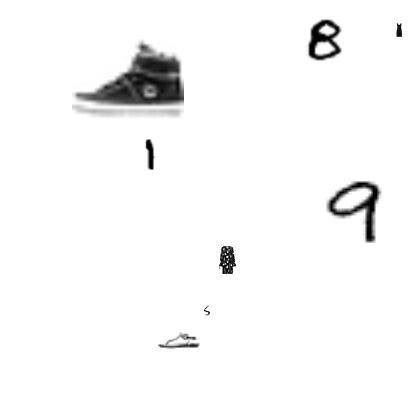1: (128, 132, 170, 174)
5: (200, 304, 214, 318)
8: (295, 10, 351, 66)
9: (315, 164, 399, 248)
Dress: (213, 246, 241, 274), (392, 23, 406, 37)
Sandal: (158, 319, 200, 361)
Sneaker: (72, 21, 184, 133)
